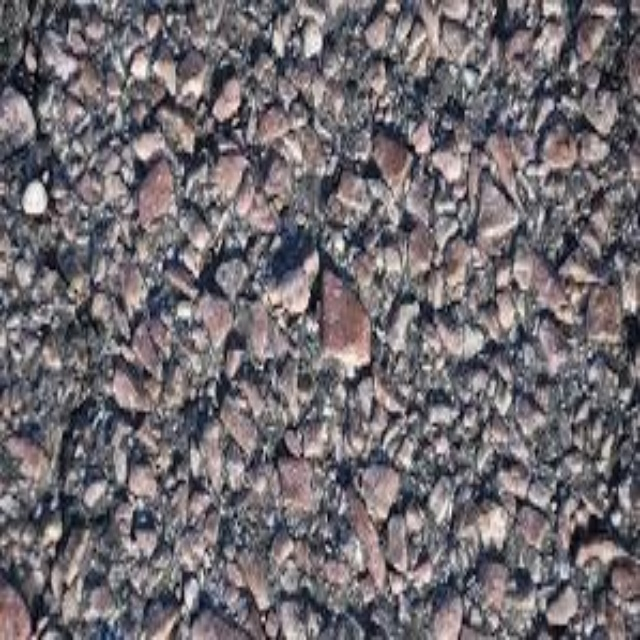obstacle: (0, 0, 638, 636)
